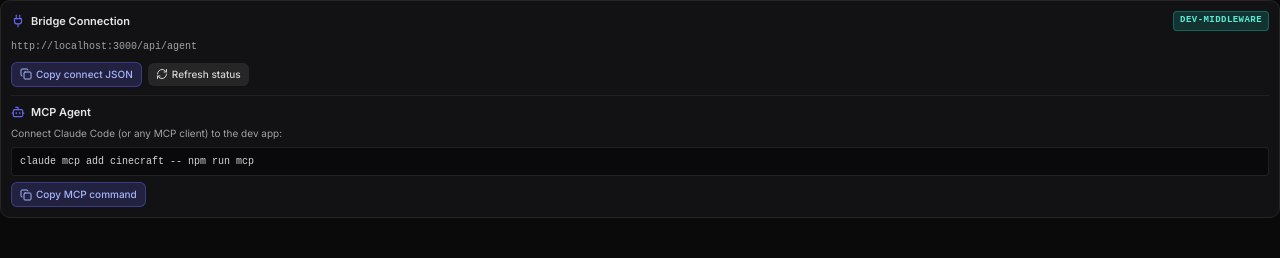
it: R23.4: BridgePanel connection display › refresh probes /status and reports success or failure honestly
Later steps or results of the test are not shown.
Click the button "Refresh status": {"x": 198, "y": 74} [148, 62, 249, 86]
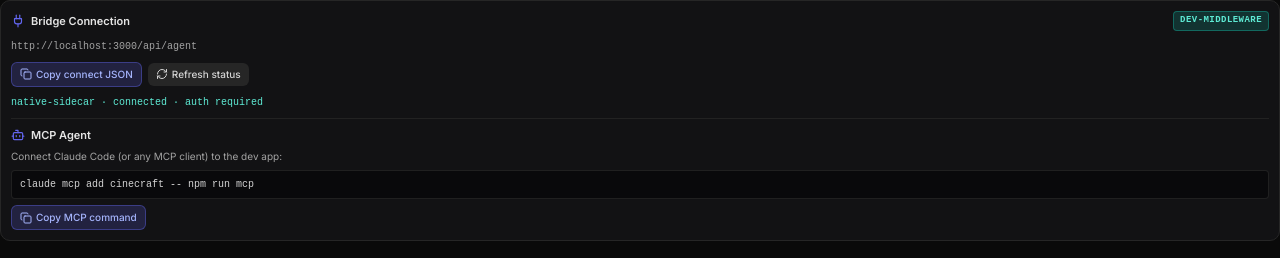
Now the text with test id "bridge-probe-ok" shows "native-sidecar", box [11, 96, 95, 108]
